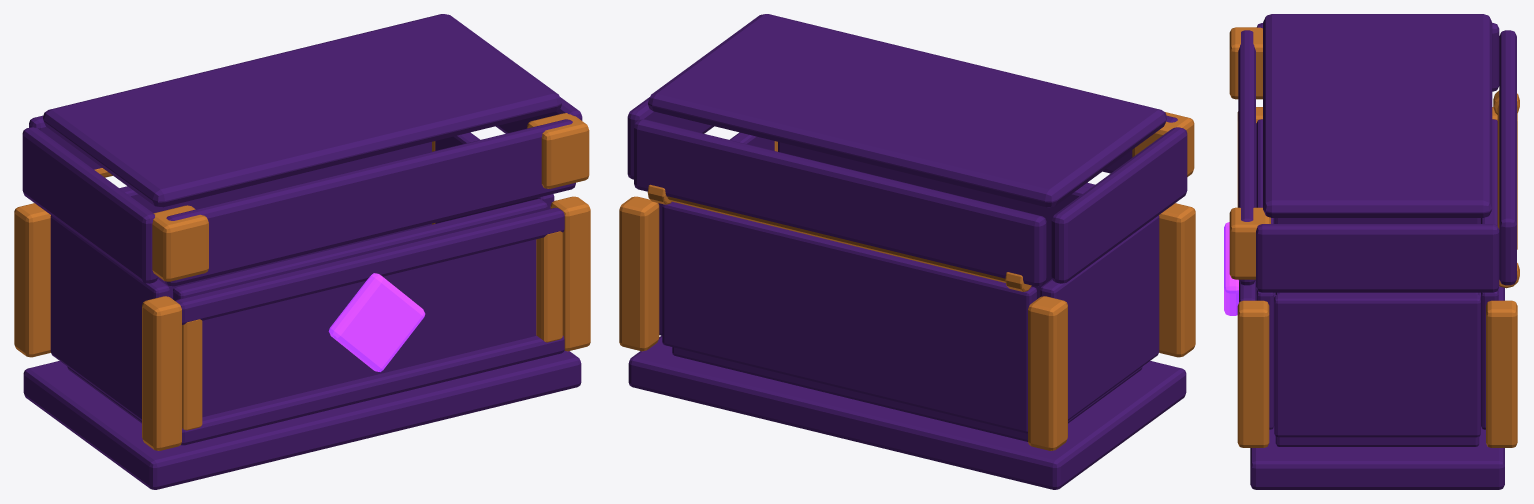
File: Chest_Shake.glb
3 renders of one model, left to right at view 1: azimuth 30°, elevation 25°; view 2: azimuth 150°, elevation 25°; view 3: azimuth 270°, elevation 25°, orthographic. The views are drawn at different scales.
Visible parts, largest first — view 1: BF_Chest_LidTop, BF_Chest_BodyFront, BF_Chest_LidFront, BF_Chest_Plinth, BF_Chest_BodySide_L, BF_Chest_FrontRail_Top, BF_Chest_LidSide_L, BF_Chest_FrontRail_Bottom, BF_Chest_Corner_L_F, BF_Chest_Corner_L_B, BF_Chest_Latch, BF_Chest_Corner_R_F (+8 smaller); view 2: BF_Chest_BodyRear, BF_Chest_LidTop, BF_Chest_LidRear, BF_Chest_Plinth, BF_Chest_BodySide_L, BF_Chest_LidSide_L, BF_Chest_Corner_R_B, BF_Chest_Corner_L_B, BF_Chest_Corner_L_F, BF_Chest_BodyFront, BF_Chest_BodyFloor, BF_Chest_HingeBar (+3 smaller); view 3: BF_Chest_LidTop, BF_Chest_BodySide_R, BF_Chest_LidSide_R, BF_Chest_Plinth, BF_Chest_Corner_R_F, BF_Chest_Corner_R_B, BF_Chest_LidRear, BF_Chest_LidFront, BF_Chest_BodyFloor, BF_Chest_LidCorner_R, BF_Chest_BodyFront, BF_Chest_BodyRear (+6 smaller).
Part boxes in pixels (left/top/right/bottom): BF_Chest_LidTop: left=43, top=14, right=561, bottom=207; BF_Chest_BodyFront: left=173, top=199, right=547, bottom=416; BF_Chest_LidFront: left=164, top=119, right=575, bottom=286; BF_Chest_Plinth: left=23, top=350, right=581, bottom=489; BF_Chest_BodySide_L: left=50, top=215, right=169, bottom=420; BF_Chest_FrontRail_Top: left=175, top=207, right=564, bottom=324; BF_Chest_LidSide_L: left=22, top=127, right=158, bottom=283; BF_Chest_FrontRail_Bottom: left=181, top=335, right=564, bottom=445; BF_Chest_Corner_L_F: left=142, top=296, right=181, bottom=450; BF_Chest_Corner_L_B: left=14, top=203, right=50, bottom=357; BF_Chest_Latch: left=328, top=273, right=425, bottom=371; BF_Chest_Corner_R_F: left=550, top=196, right=590, bottom=351; BF_Chest_BodyRear: left=662, top=201, right=1036, bottom=433; BF_Chest_LidTop: left=648, top=14, right=1166, bottom=207; BF_Chest_LidRear: left=634, top=119, right=1046, bottom=286; BF_Chest_Plinth: left=628, top=335, right=1186, bottom=489; BF_Chest_BodySide_L: left=1040, top=215, right=1159, bottom=420; BF_Chest_LidSide_L: left=1051, top=127, right=1187, bottom=283; BF_Chest_Corner_R_B: left=619, top=196, right=659, bottom=351; BF_Chest_Corner_L_B: left=1028, top=296, right=1067, bottom=450; BF_Chest_Corner_L_F: left=1159, top=203, right=1195, bottom=357; BF_Chest_BodyFront: left=778, top=142, right=1090, bottom=298; BF_Chest_BodyFloor: left=672, top=347, right=1142, bottom=441; BF_Chest_HingeBar: left=667, top=196, right=1005, bottom=282; BF_Chest_LidTop: left=1263, top=14, right=1492, bottom=217; BF_Chest_BodySide_R: left=1274, top=294, right=1480, bottom=437; BF_Chest_LidSide_R: left=1256, top=224, right=1499, bottom=292; BF_Chest_Plinth: left=1250, top=286, right=1504, bottom=489; BF_Chest_Corner_R_F: left=1237, top=300, right=1269, bottom=447; BF_Chest_Corner_R_B: left=1486, top=300, right=1517, bottom=447; BF_Chest_LidRear: left=1499, top=30, right=1516, bottom=285; BF_Chest_LidFront: left=1238, top=30, right=1255, bottom=285; BF_Chest_BodyFloor: left=1275, top=292, right=1479, bottom=446; BF_Chest_LidCorner_R: left=1229, top=207, right=1270, bottom=279; BF_Chest_BodyFront: left=1256, top=119, right=1274, bottom=429; BF_Chest_BodyRear: left=1481, top=119, right=1498, bottom=429.
Size of the model in its own units: 1.55 by 0.98 by 0.9295.
